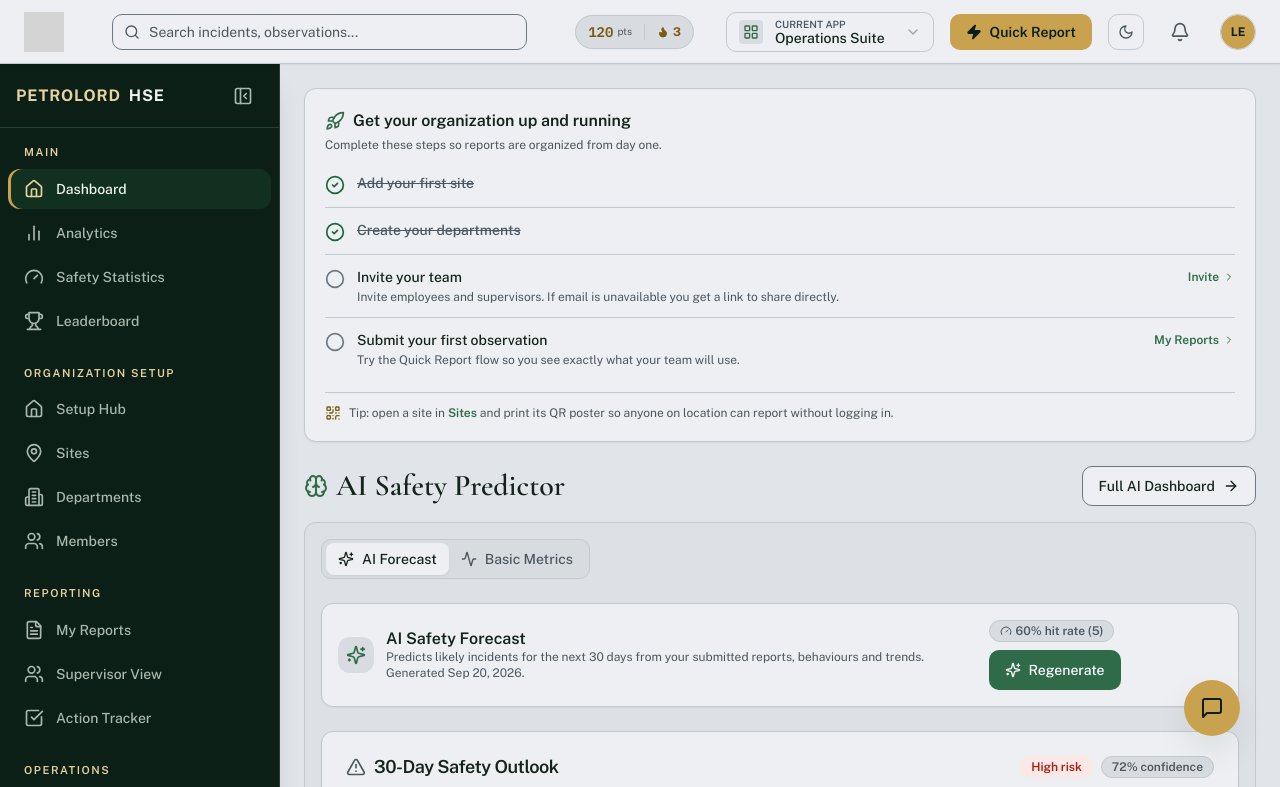
HSE dashboard pilot › further states › themes the open account menu, notifications and chat, portals included
Click the button titled "Open Chat Assistant" at (1212, 708), box 1184,680 -> 1240,736
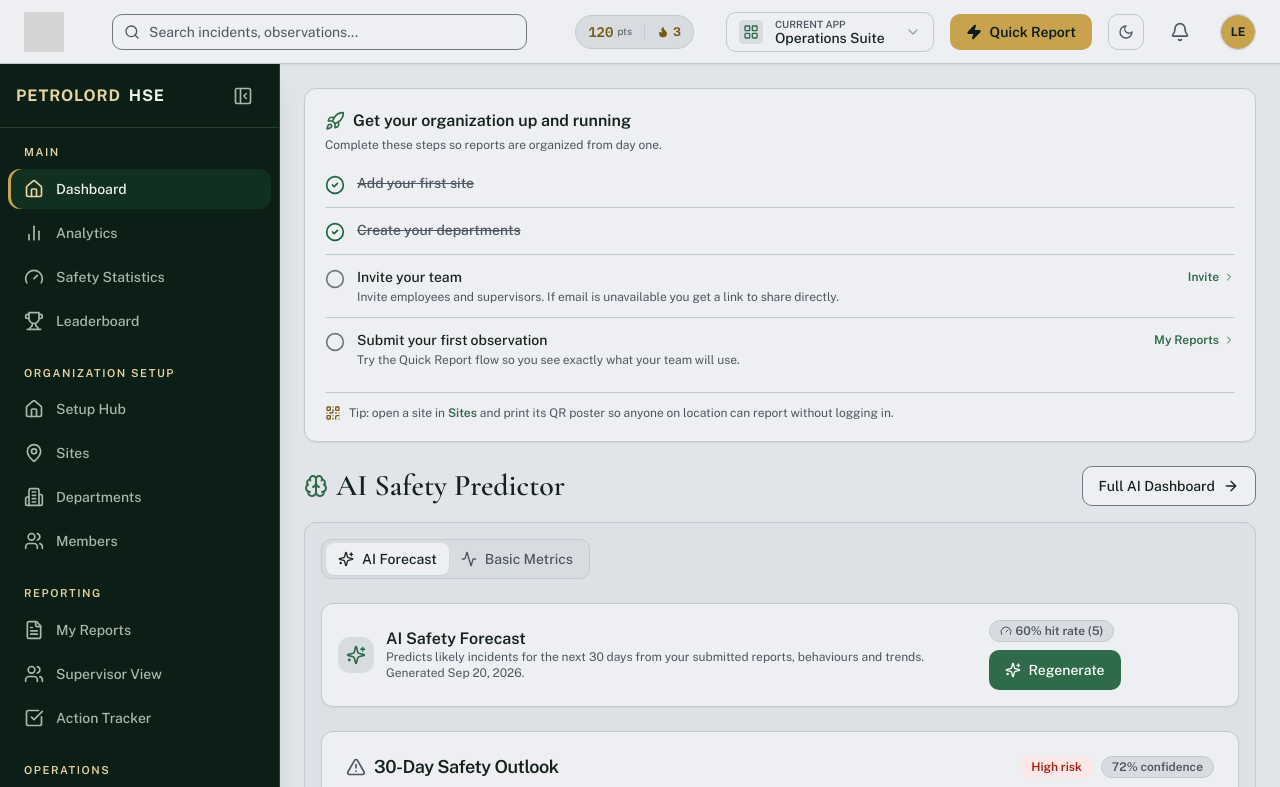
Click the button named "Notifications" at (1180, 32), box 1160,12 -> 1200,52
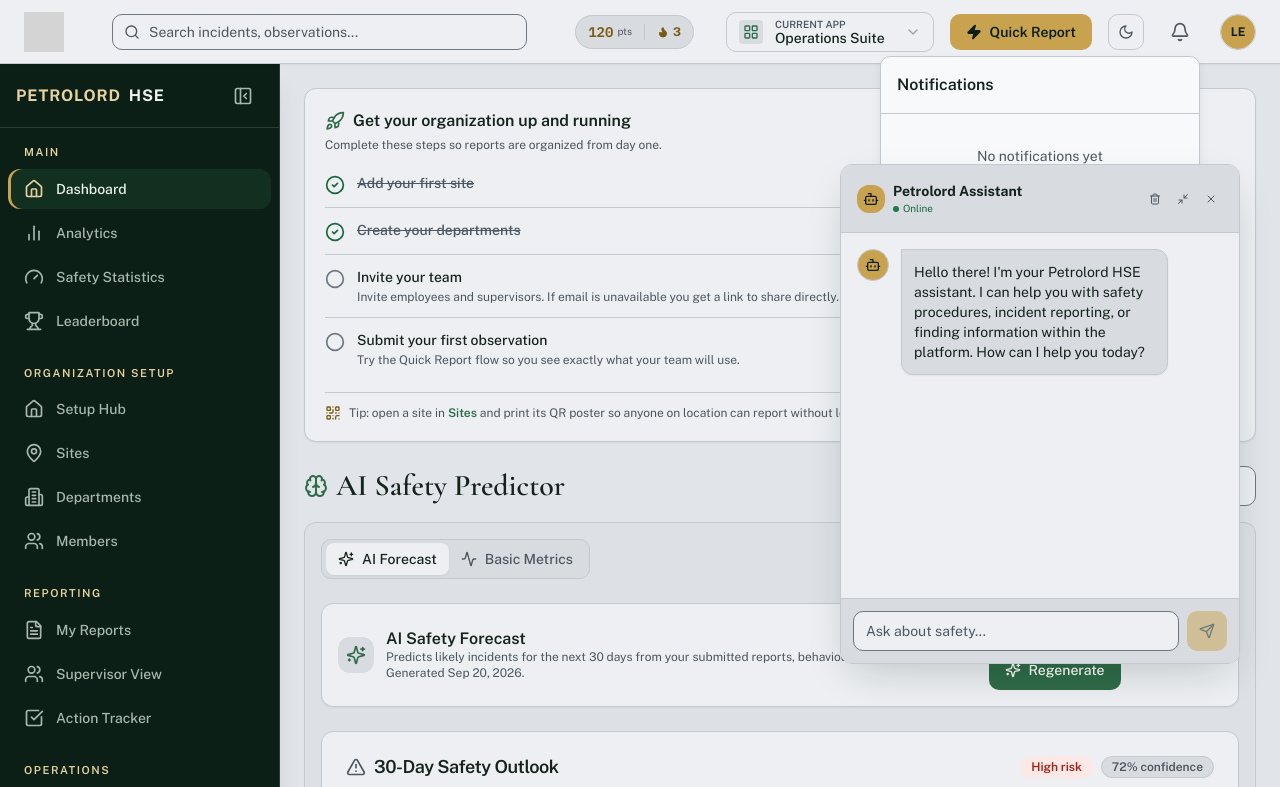
Check: the text "No notifications yet" is shown, box 977,148 -> 1103,164
